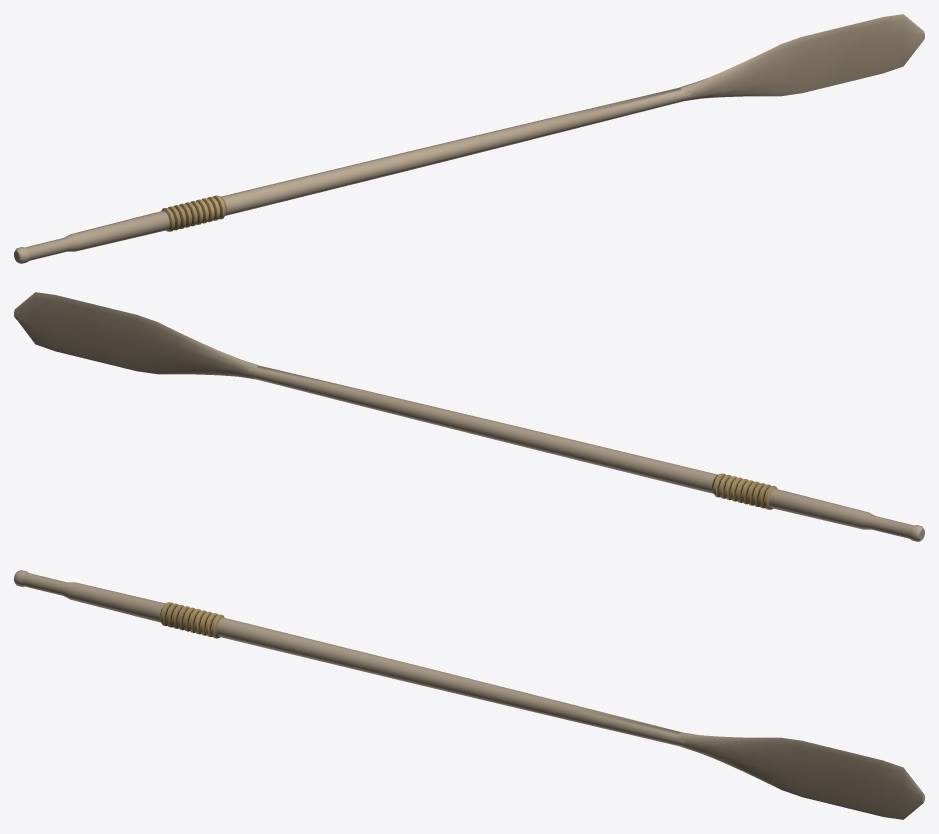
Rendered from oar.00259e85.glb.
3 views of the same model, one above another, from view 1: azimuth 30°, elevation 25°; view 2: azimuth 150°, elevation 25°; view 3: azimuth 330°, elevation 25° (orthographic).
Parts seen in each view (by area): view 1: oar; view 2: oar; view 3: oar.
Part boxes in pixels (bbox=[...]): oar: bbox=[14, 14, 924, 263]; oar: bbox=[14, 292, 924, 541]; oar: bbox=[14, 570, 924, 819].
Size of the model in its own units: 2.42 by 0.144 by 0.0542.
